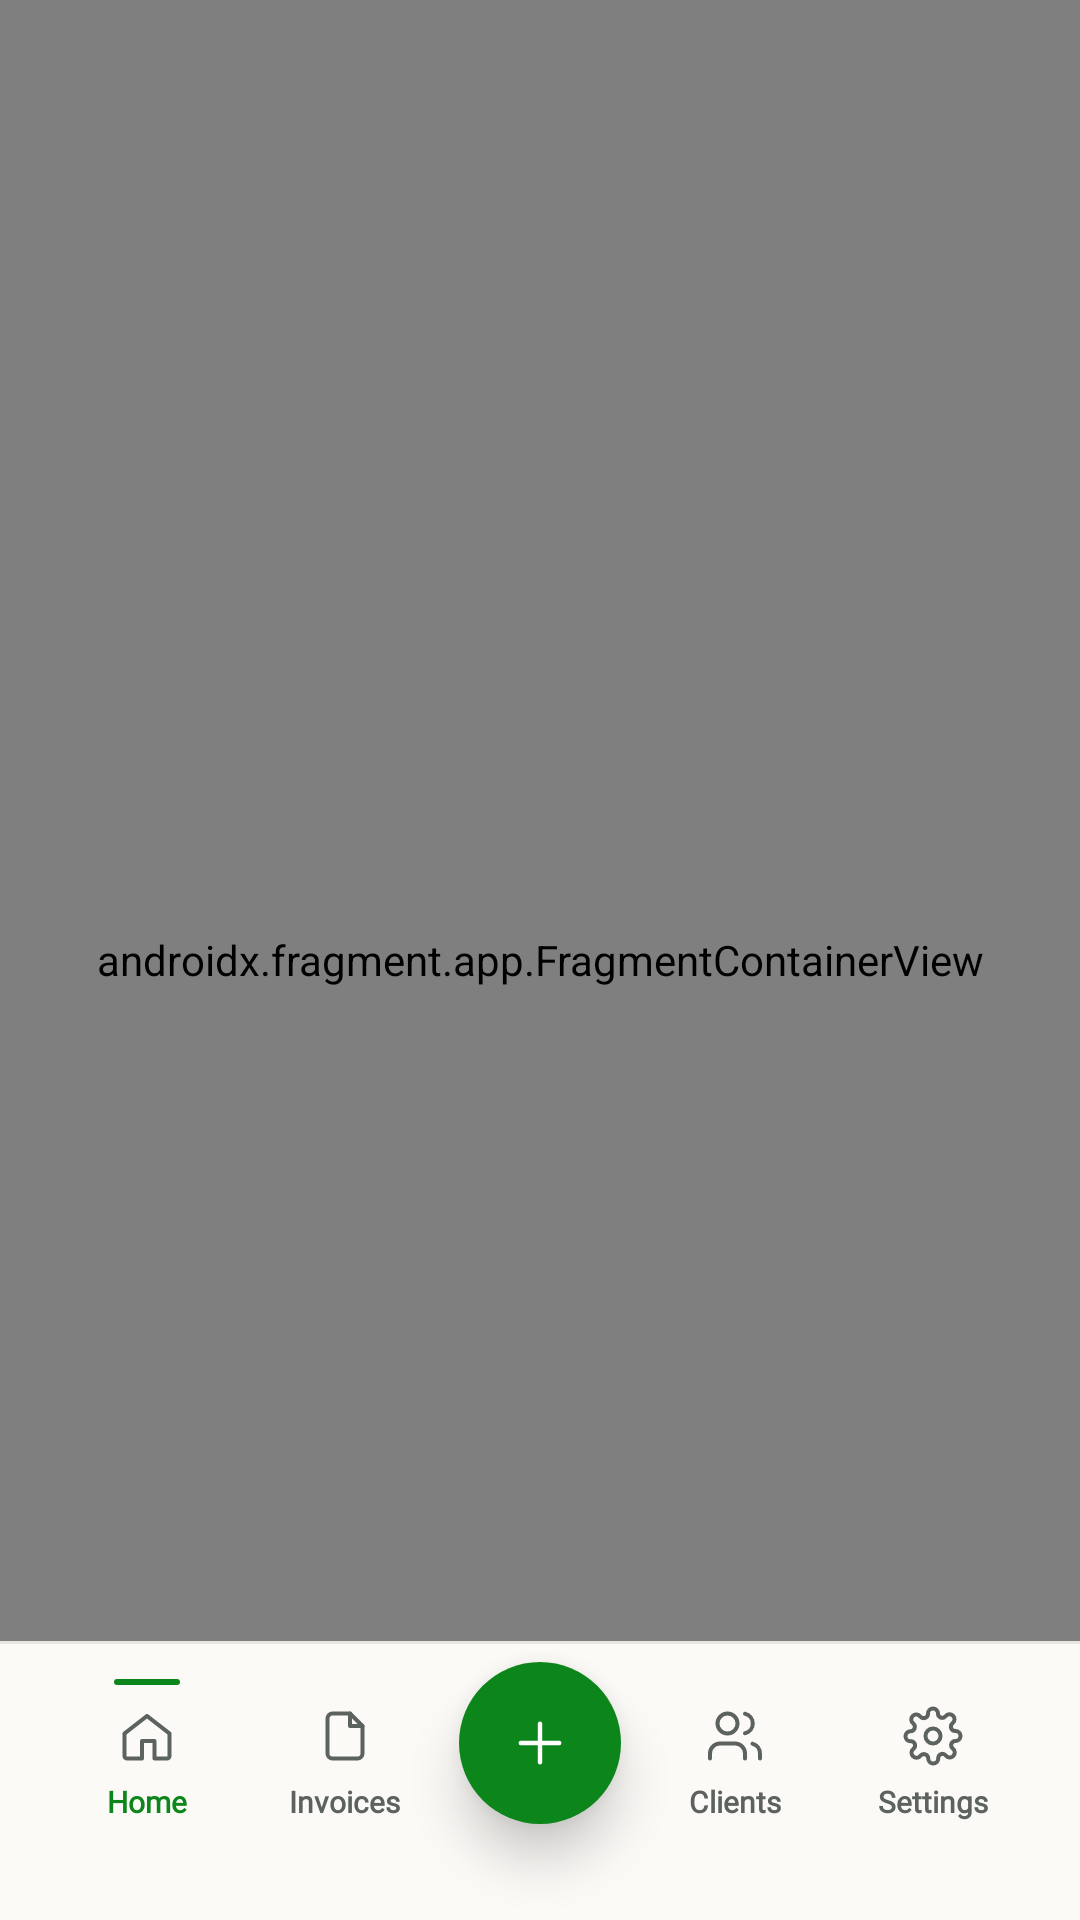

Named icons in this screenshot (1080px×1920px) and their centers, (x,y):
fab: (540,1743)
